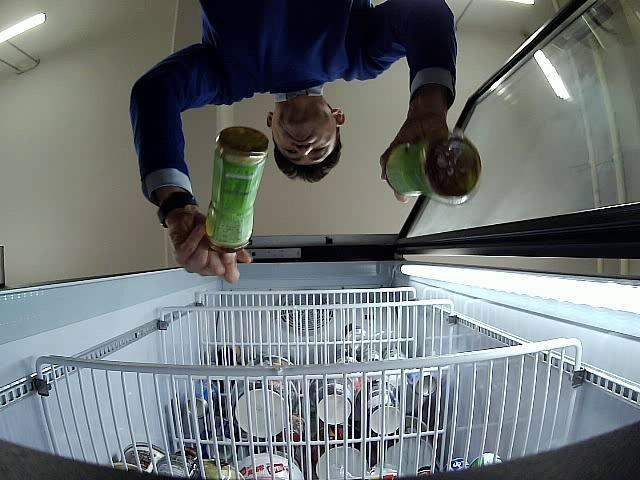19_17cha: (204, 126, 270, 252), (386, 132, 480, 206)
